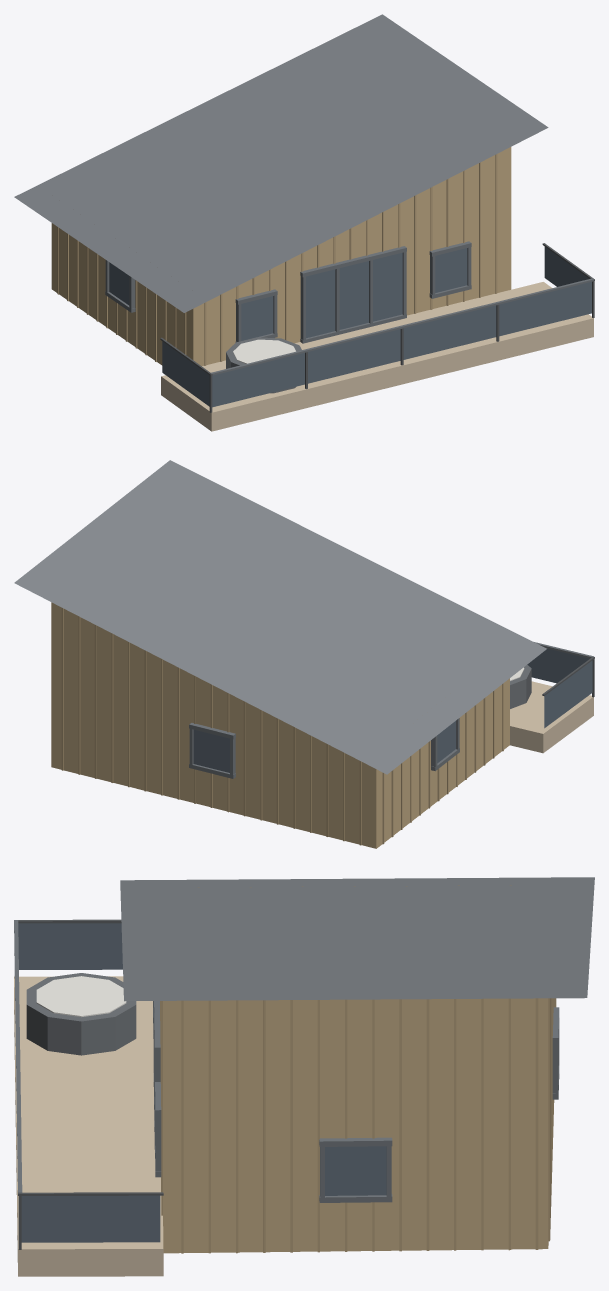
The picture shows the model from 3 angles, top to bottom: view 1: azimuth 30°, elevation 25°; view 2: azimuth 150°, elevation 25°; view 3: azimuth 270°, elevation 25°; orthographic projection. The views are drawn at different scales.
Visible parts, largest first — view 1: slate, door_wood, larch, slate_dk, door_wood_p, window_glass_003, window_glass_001, window_glass_002, window_glass_004, window_glass_007, window_glass_009, window_glass_008 (+7 smaller); view 2: slate, door_wood, door_wood_p, larch, slate_dk, window_glass_005, window_glass_013, window_glass_001, band_dark, window_glass_014; view 3: door_wood, slate, larch, door_wood_p, window_glass_006, slate_dk, band_dark, window_glass_005, window_glass_012, string, pipe.
Part boxes in pixels (x1,y1,x2,y2): slate: (14, 14, 548, 312); door_wood: (51, 147, 511, 365); larch: (161, 282, 593, 431); slate_dk: (105, 241, 593, 375); door_wood_p: (57, 154, 497, 365); window_glass_003: (403, 305, 496, 359); window_glass_001: (212, 353, 304, 407); window_glass_002: (308, 329, 400, 383); window_glass_004: (499, 281, 591, 336); window_glass_007: (306, 269, 335, 338); window_glass_009: (373, 252, 402, 321); window_glass_008: (339, 261, 368, 329); slate: (14, 460, 546, 774); door_wood: (51, 602, 509, 848); door_wood_p: (61, 608, 503, 845); larch: (510, 681, 593, 753); slate_dk: (189, 642, 593, 778); window_glass_005: (544, 660, 592, 728); window_glass_013: (193, 729, 229, 772); window_glass_001: (527, 648, 589, 683); band_dark: (510, 664, 531, 708); window_glass_014: (437, 721, 455, 763); door_wood: (163, 885, 548, 1253); slate: (120, 877, 594, 1001); larch: (14, 976, 163, 1276); door_wood_p: (160, 998, 556, 1253); window_glass_006: (21, 1195, 160, 1242); slate_dk: (14, 920, 559, 1202); band_dark: (26, 973, 136, 1055); window_glass_005: (18, 923, 122, 969); window_glass_012: (325, 1146, 386, 1195); string: (36, 976, 126, 1016); pipe: (18, 919, 163, 1249).
Size of the model in its own units: 10.71 by 4.9 by 9.59.
